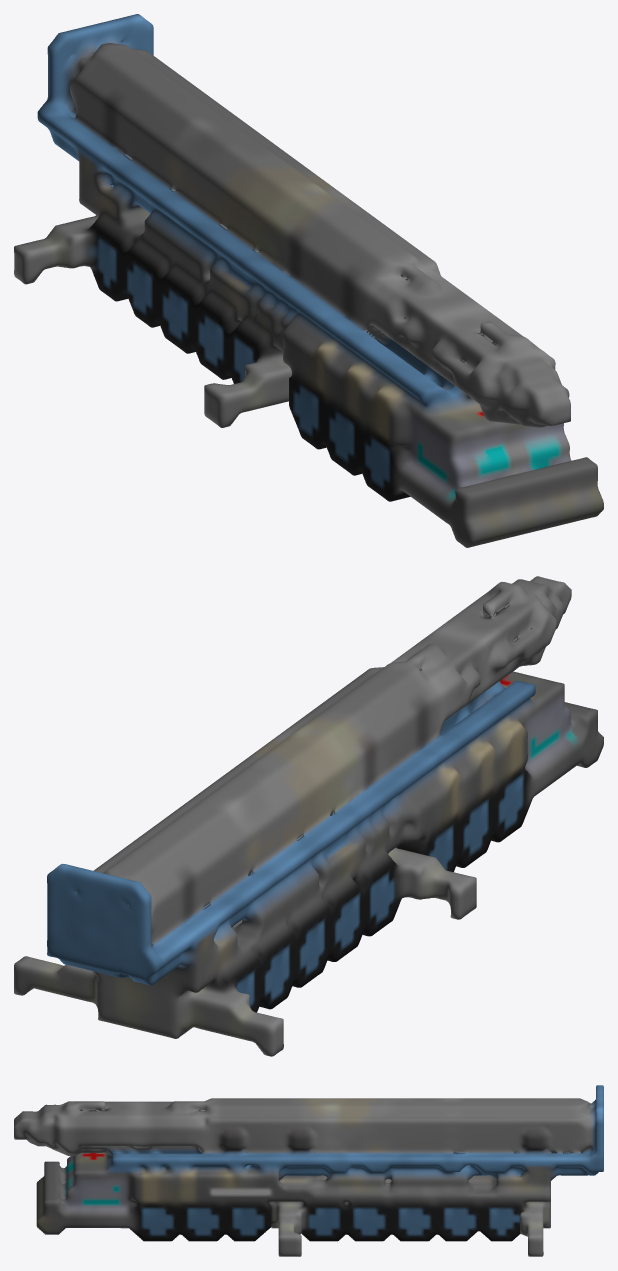
File: nuclear_icbm.glb
3 renders of one model, top to bottom at view 1: azimuth 30°, elevation 25°; view 2: azimuth 150°, elevation 25°; view 3: azimuth 270°, elevation 25°, orthographic. The views are drawn at different scales.
Parts seen in each view (by area): view 1: nuclear_icbm; view 2: nuclear_icbm; view 3: nuclear_icbm.
Part boxes in pixels (x1=…): nuclear_icbm: x1=14, y1=14, x2=603, y2=547; nuclear_icbm: x1=14, y1=576, x2=603, y2=1056; nuclear_icbm: x1=14, y1=1085, x2=603, y2=1256.
Size of the model in its own units: 2.13 by 1.53 by 6.49.
